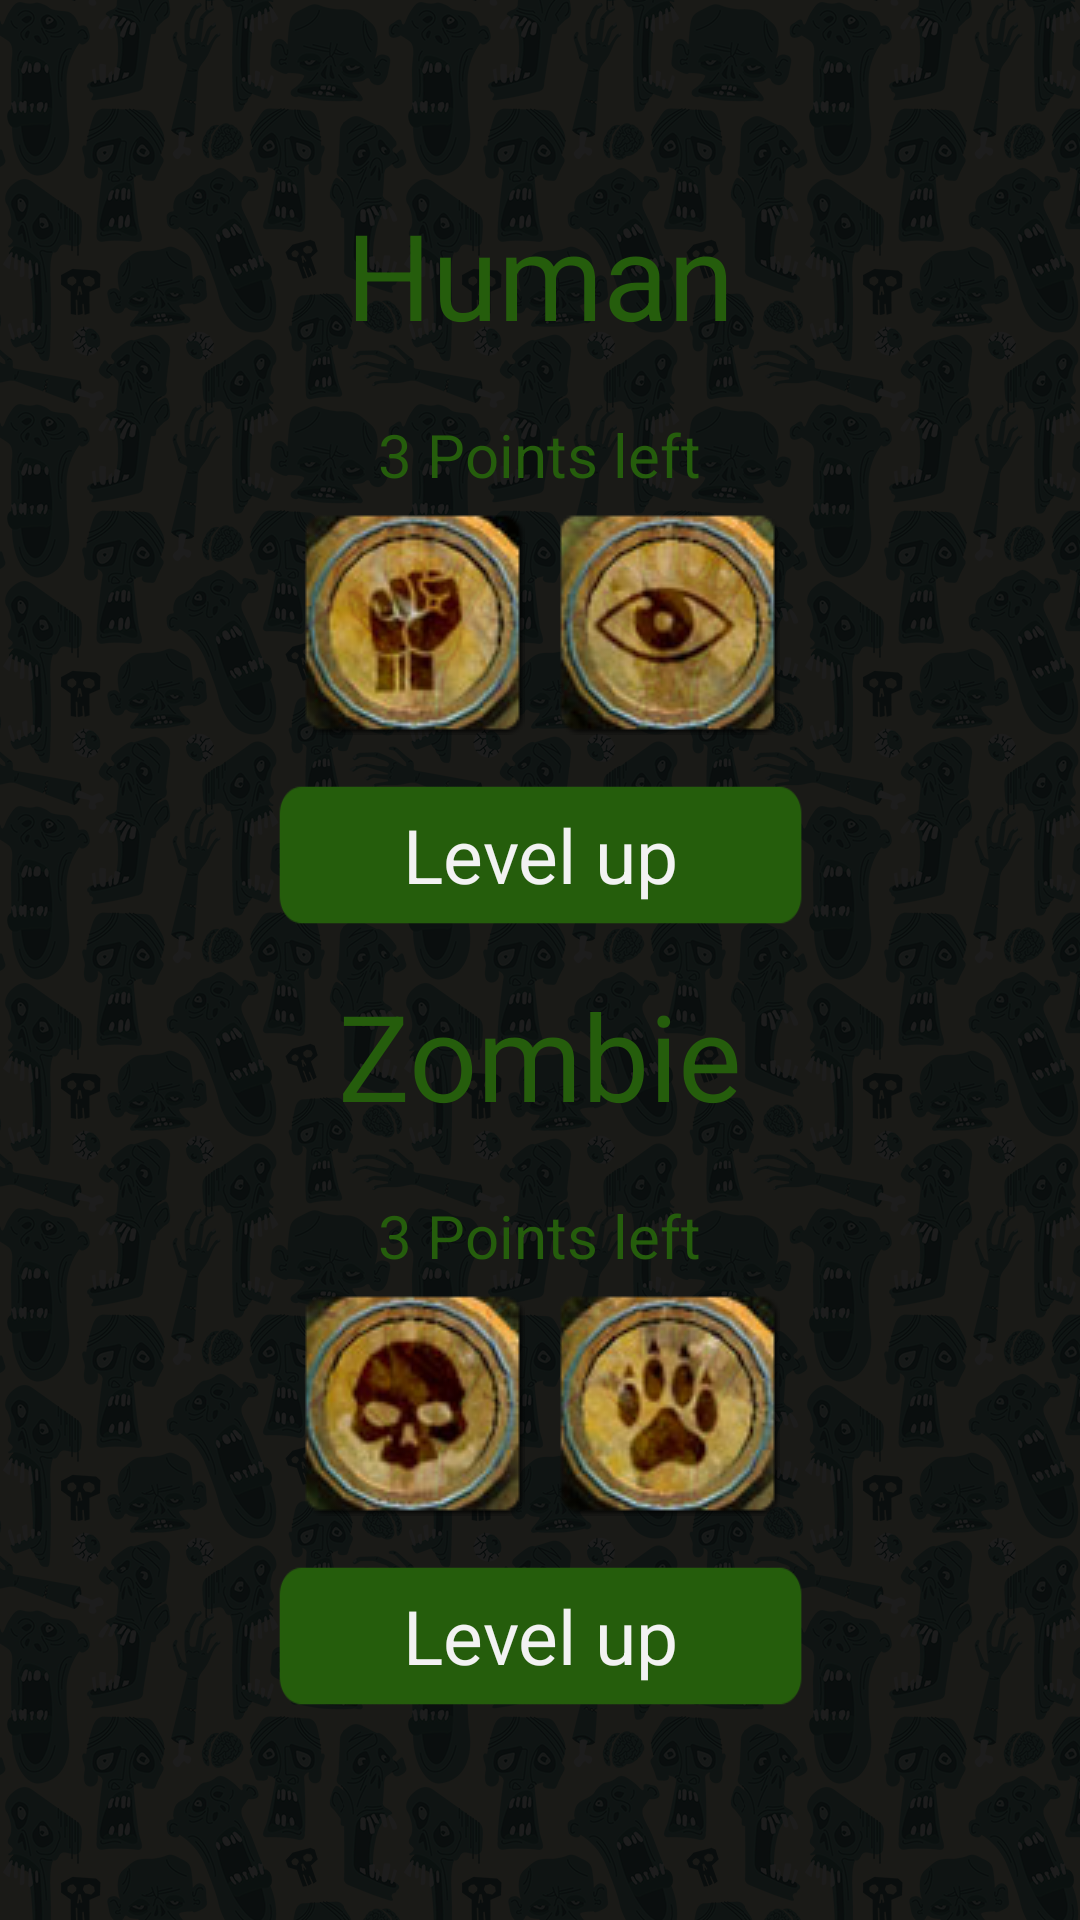

Locate icon controls on the screen. Image size 1080px x 1920px, boxes as Rect(x1, y1, x2, y2).
deadly: Rect(305, 1296, 520, 1511)
perception: Rect(560, 515, 775, 730)
sneak: Rect(560, 1296, 775, 1511)
strenght: Rect(305, 515, 520, 730)
